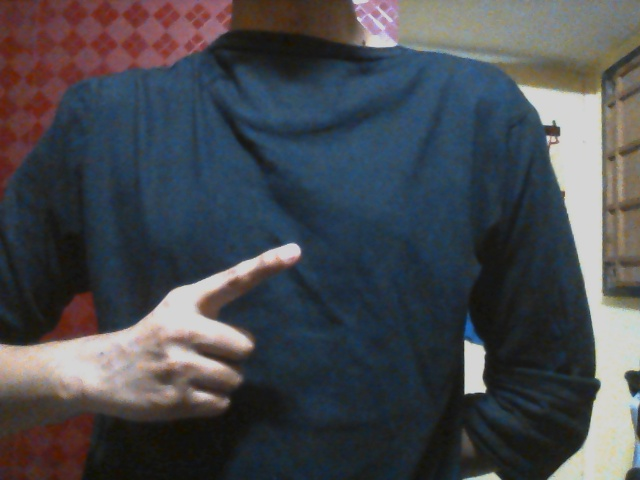I: (123, 241, 304, 424)
